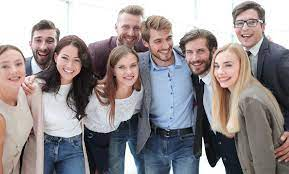face: (1, 57, 26, 89), (235, 17, 263, 43), (213, 60, 240, 85), (186, 46, 209, 72), (59, 51, 80, 78), (120, 21, 142, 46), (34, 34, 55, 60), (116, 60, 138, 84), (151, 34, 173, 58)
